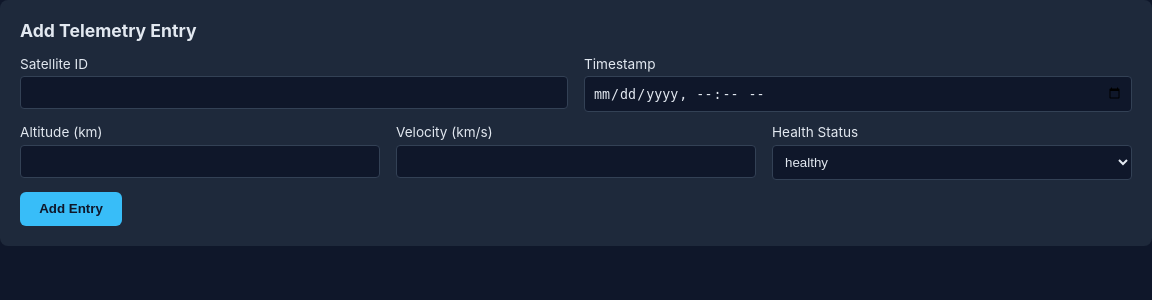
Test: TelemetryForm › shows validation errors and does not submit when fields are empty
The image size is (1152, 300).
Click the button "Add Entry" at point(71, 209), box left=20, top=192, right=122, bottom=226
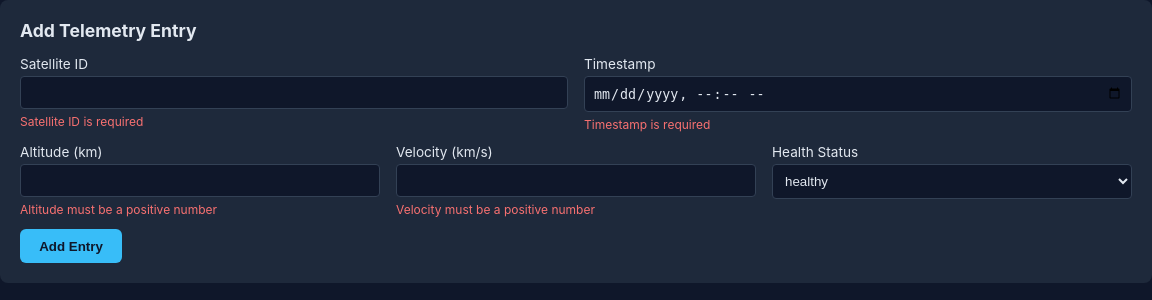
expect the text "Satellite ID is required" is shown: met, box left=20, top=114, right=143, bottom=129
